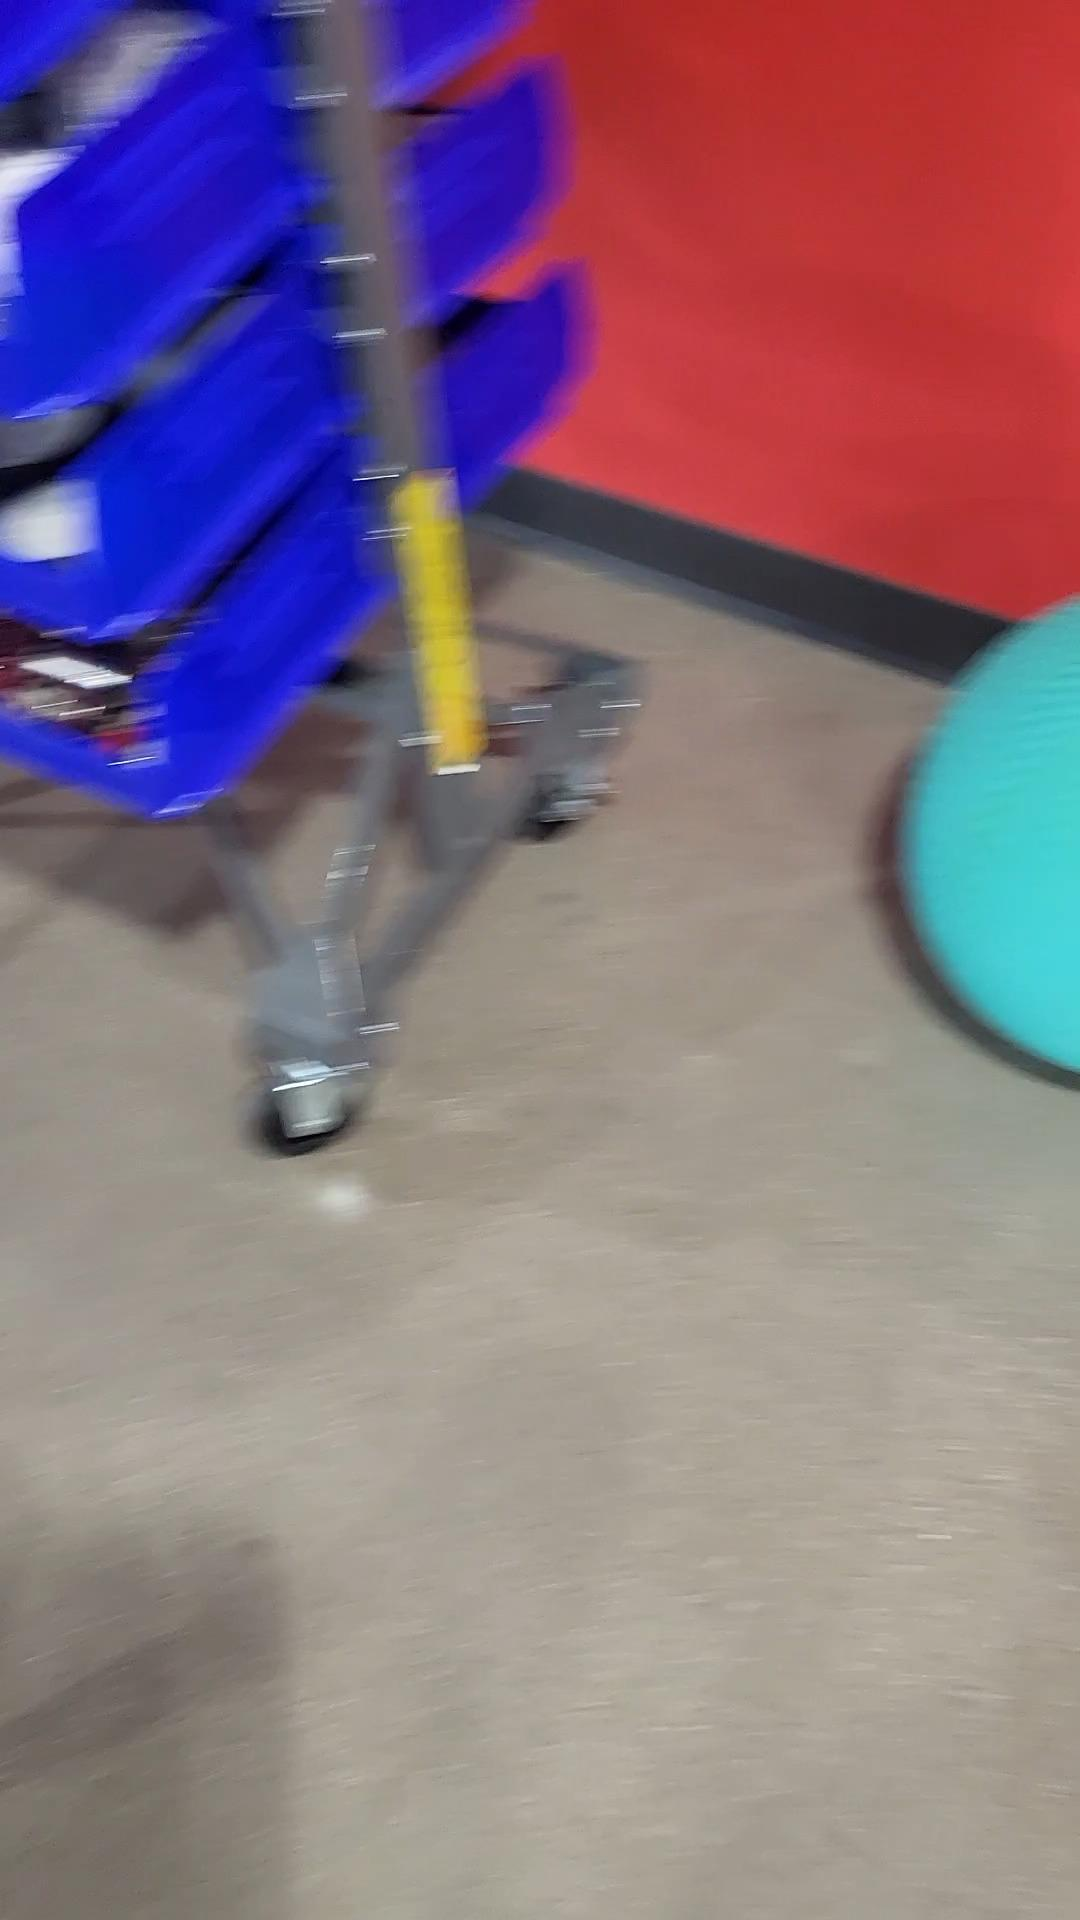algae: (895, 591, 1080, 1076)
